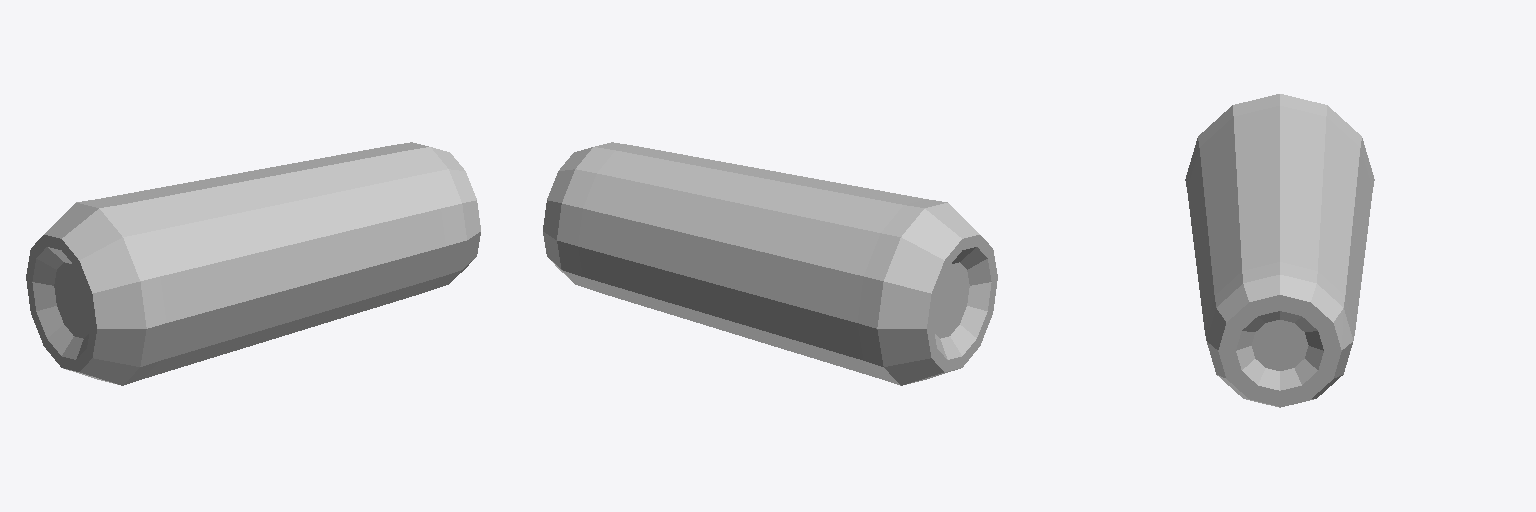
The model's file is dummylowerarm.obj.
3 renders of one model, left to right at view 1: azimuth 30°, elevation 25°; view 2: azimuth 150°, elevation 25°; view 3: azimuth 270°, elevation 25°, orthographic.
Parts seen in each view (by area): view 1: dummy_hips3_dummy_belly_dummy_torso_dummy_lshoulder_dummy_l.004; view 2: dummy_hips3_dummy_belly_dummy_torso_dummy_lshoulder_dummy_l.004; view 3: dummy_hips3_dummy_belly_dummy_torso_dummy_lshoulder_dummy_l.004.
Part boxes in pixels (x1,y1,x2,y2): dummy_hips3_dummy_belly_dummy_torso_dummy_lshoulder_dummy_l.004: (26, 142, 480, 385); dummy_hips3_dummy_belly_dummy_torso_dummy_lshoulder_dummy_l.004: (543, 142, 997, 385); dummy_hips3_dummy_belly_dummy_torso_dummy_lshoulder_dummy_l.004: (1185, 94, 1374, 407).
Size of the model in its own units: 23.27 by 9.82 by 9.82.